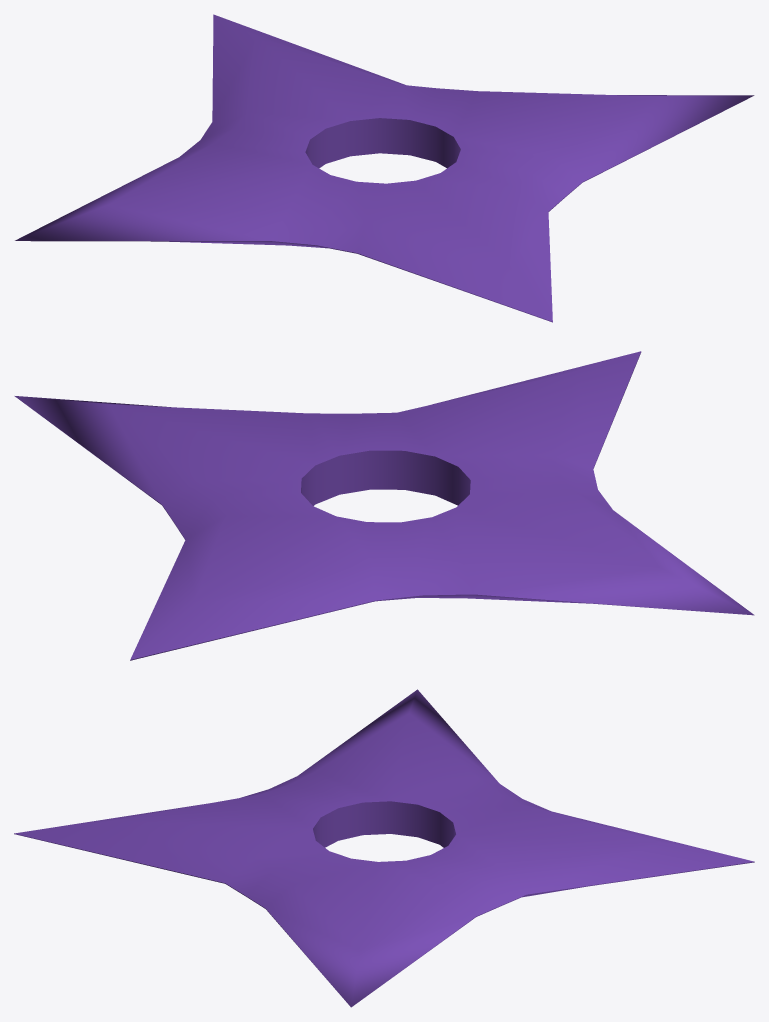
The model's file is Shuriken.fbx.
3 views of the same model, one above another, from view 1: azimuth 30°, elevation 25°; view 2: azimuth 150°, elevation 25°; view 3: azimuth 270°, elevation 25° (orthographic). The views are drawn at different scales.
Visible parts, largest first — view 1: Shuriken; view 2: Shuriken; view 3: Shuriken.
Boxes of the visible parts, left/top/right/bottom form: Shuriken: left=15, top=14, right=754, bottom=322; Shuriken: left=14, top=351, right=754, bottom=660; Shuriken: left=14, top=689, right=754, bottom=1007.
Bounding box in the file's own units: 37.65 × 1.83 × 37.05.
Materials: 1 (1 with a texture image).
